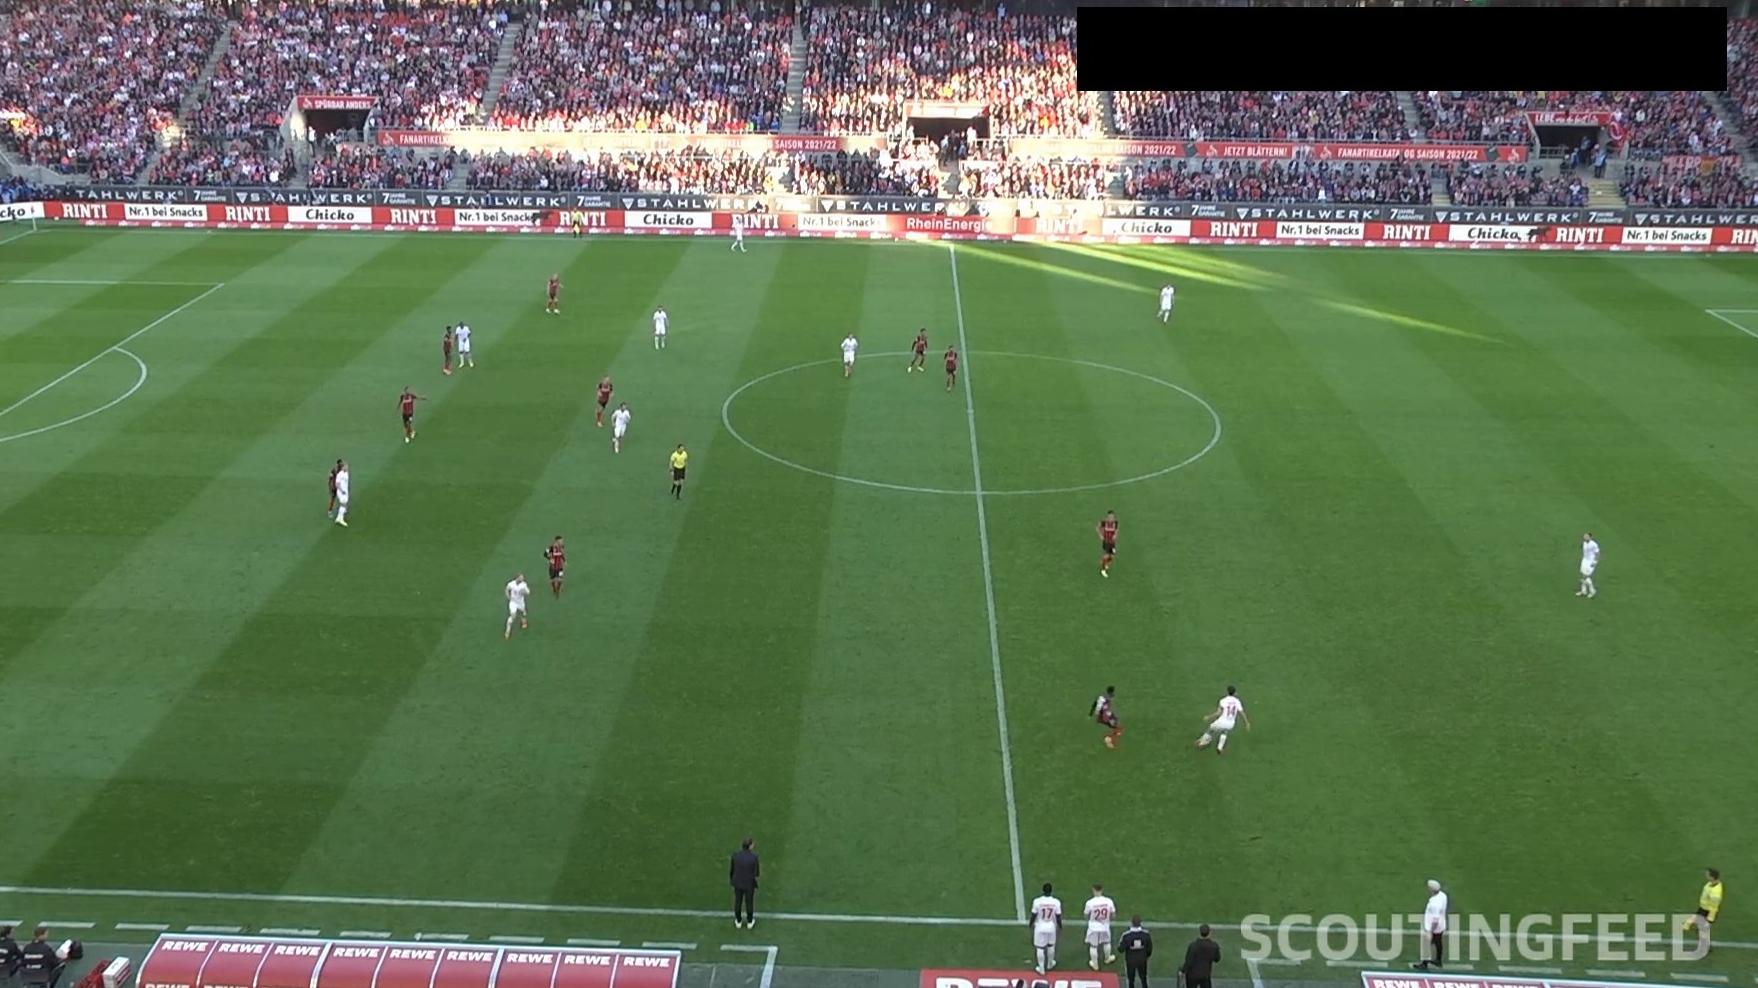ball: (1200, 733, 1213, 745)
